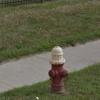Hydrant: (41, 39, 76, 91)
